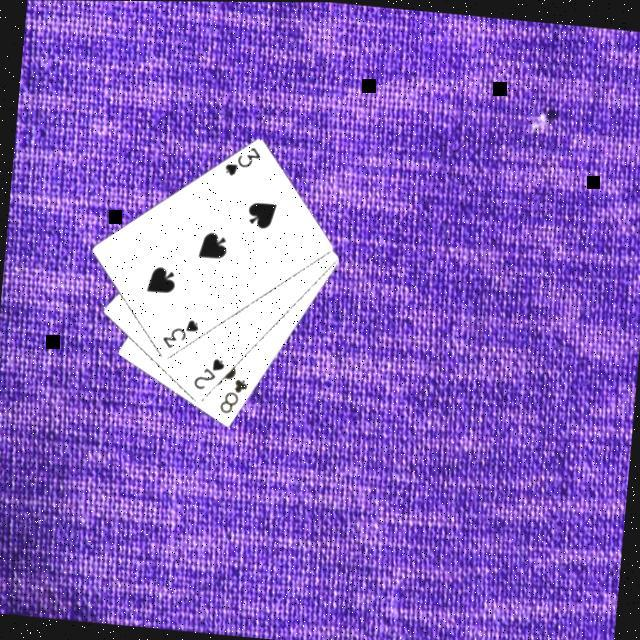2S: (189, 352, 226, 394)
3S: (220, 140, 263, 180), (158, 313, 201, 352)
8C: (215, 372, 251, 417)
